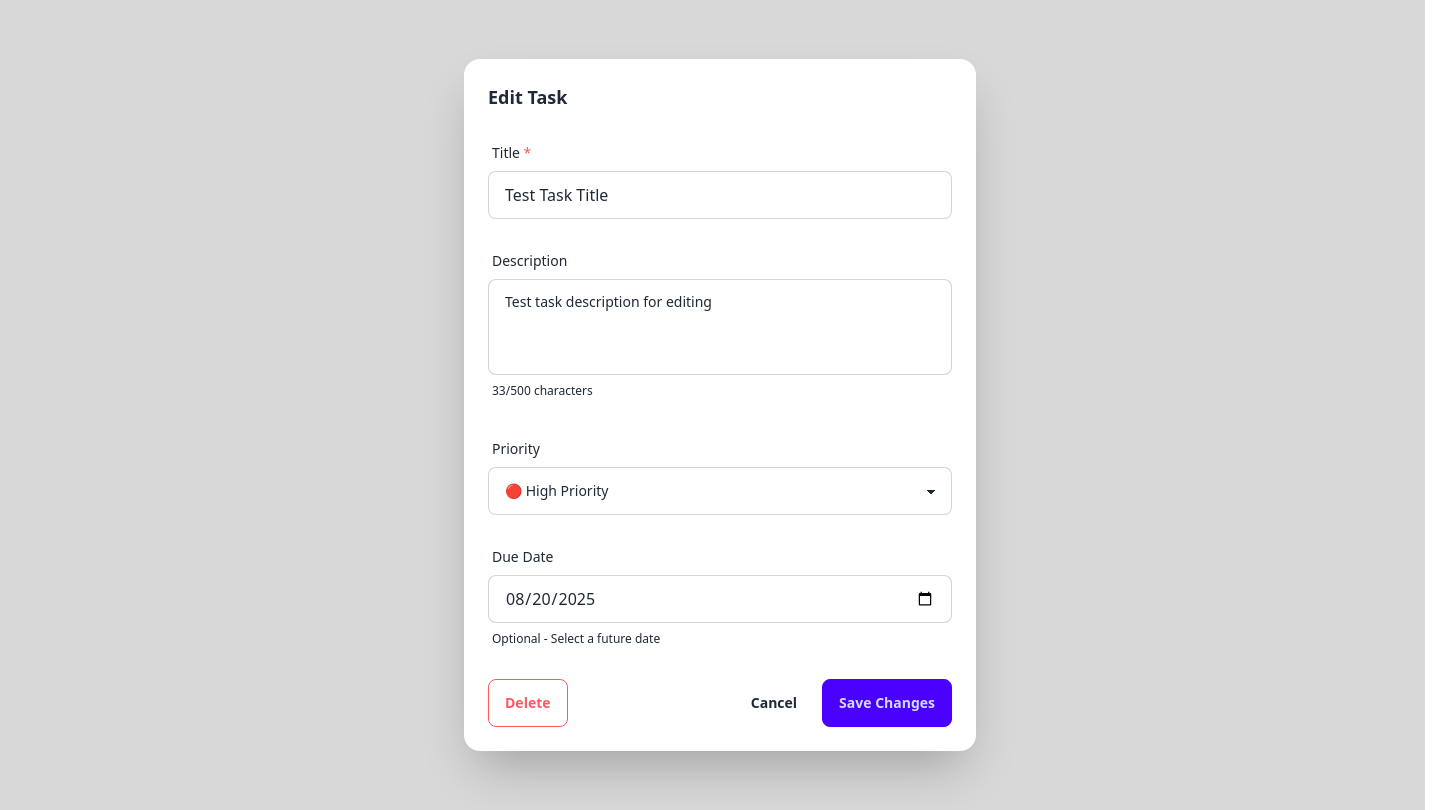
Test: TaskEditModal › validates form fields with Zod schema
// Clear title to trigger validation error
Clear the field with test id "edit-title-input" at [720, 195], box 488,171 -> 952,219
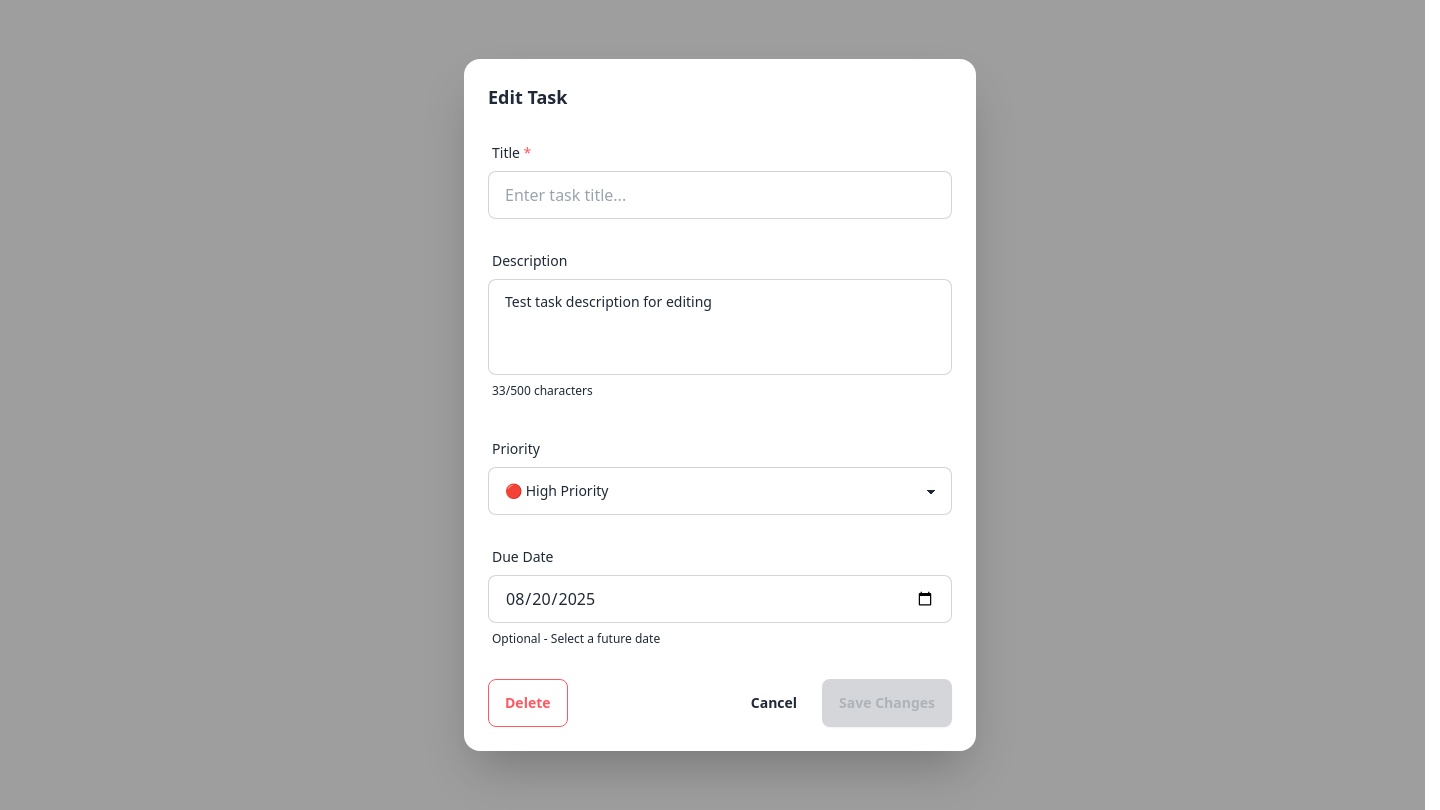
Expected: the text "*" is shown, 524,143 -> 531,162
Result: the button with test id "save-task-btn" is disabled at 822,679 -> 952,727
